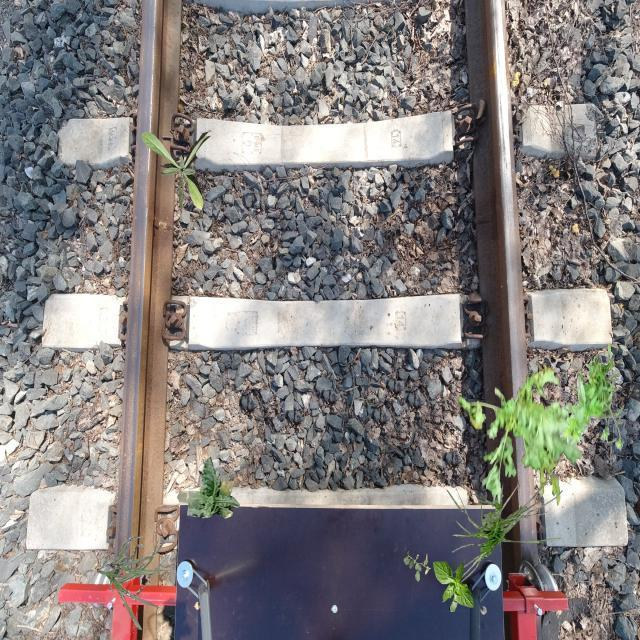Plant: (458, 361, 583, 508), (444, 467, 562, 590), (560, 344, 624, 452), (97, 536, 170, 630), (141, 130, 212, 211), (177, 457, 240, 519), (433, 559, 474, 612), (404, 551, 432, 582)
